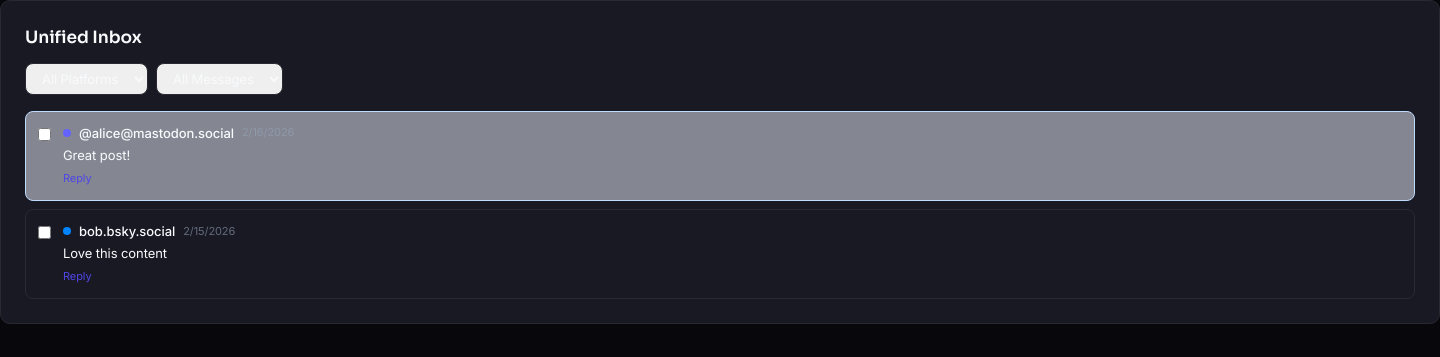
Test: UnifiedInbox › opens reply input when clicking Reply
Click the button "Reply" below "Great post!" at x=77, y=178, box [63,171,92,185]
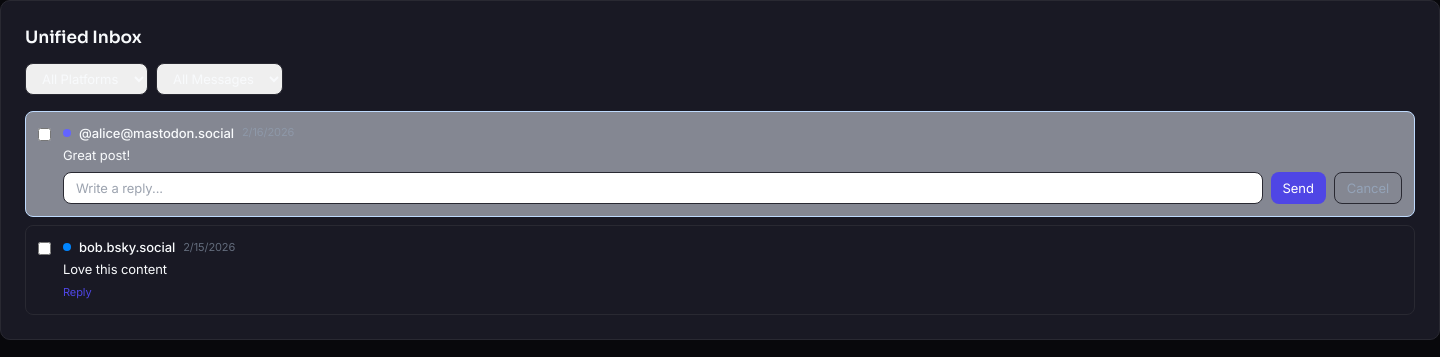
Result: the field with placeholder "Write a reply..." is shown at [63,172,1263,204]
Result: the button "Send" is shown at [1271,172,1326,204]
Result: the button "Cancel" is shown at [1334,172,1402,204]
